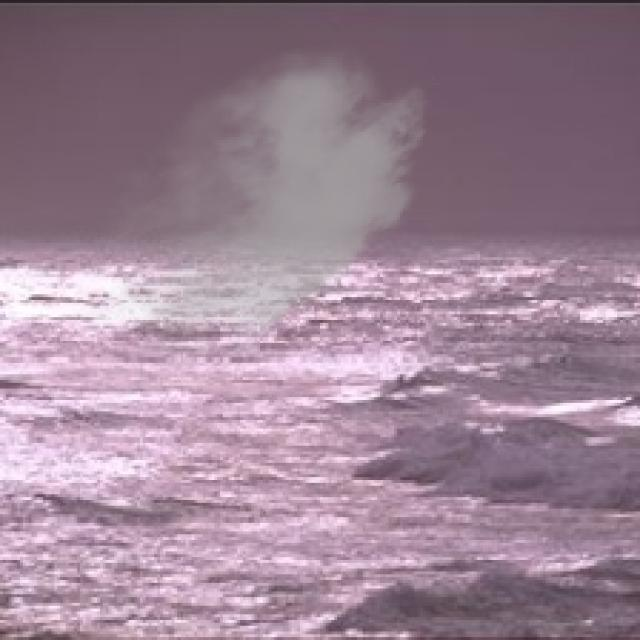Smoke: (68, 32, 440, 377)
